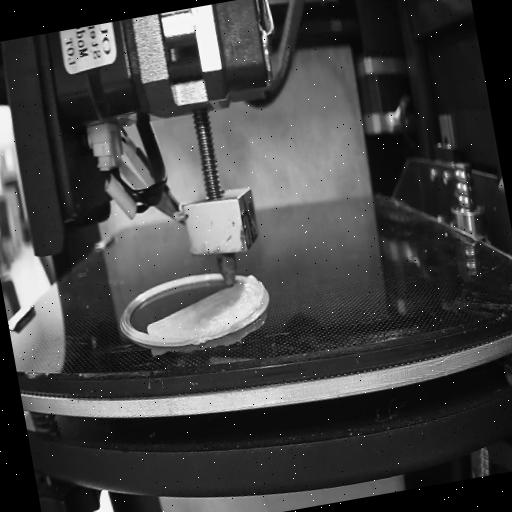over_extrusion: (243, 264, 270, 318)
